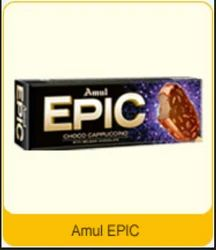Amul: (81, 85, 111, 98)
